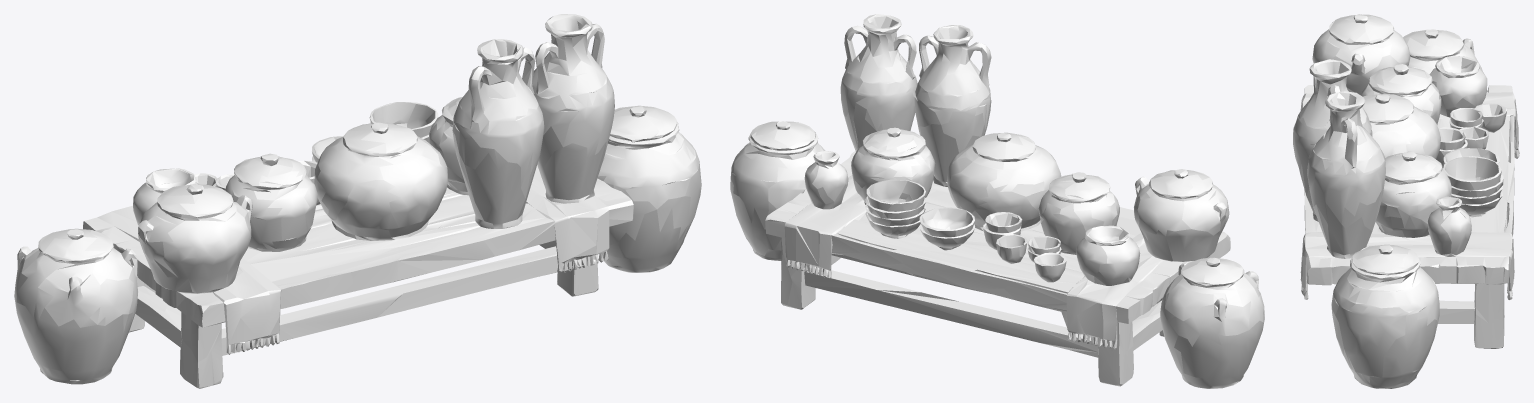
Rendered from pottery_stand.glb.
The picture shows the model from 3 angles, left to right: view 1: azimuth 30°, elevation 25°; view 2: azimuth 150°, elevation 25°; view 3: azimuth 270°, elevation 25°; orthographic projection. The views are drawn at different scales.
Visible parts, largest first — view 1: Mesh_0; view 2: Mesh_0; view 3: Mesh_0.
Boxes of the visible parts, x1,y1,x2,y2 form: Mesh_0: (14,14,701,388); Mesh_0: (730,14,1264,388); Mesh_0: (1293,14,1519,388).
Size of the model in its own units: 2.4 by 0.9868 by 0.8492.
1 material, 1 textured.
